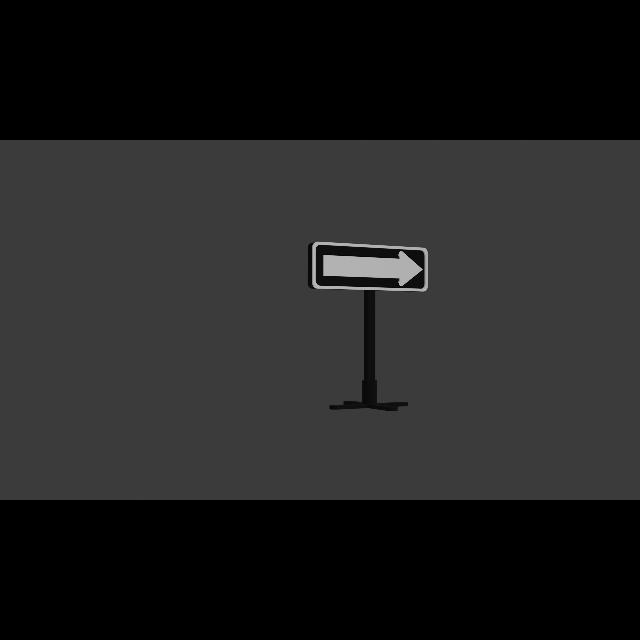sign_oneway_right: (311, 242, 430, 295)
